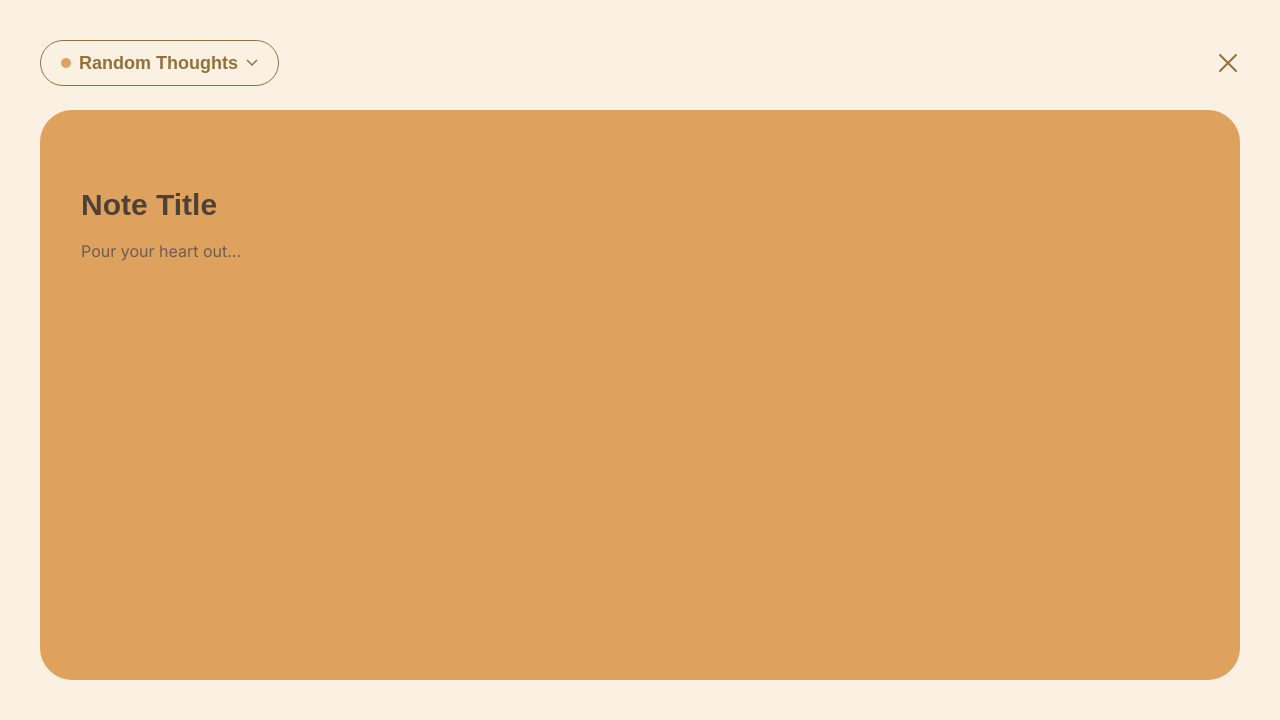
Scenario: NoteEditor › shows an error message when saving fails
Type "Oops" into the field with test id "note-title-input" at (640, 205), box x1=81 y1=187 x2=1199 y2=223
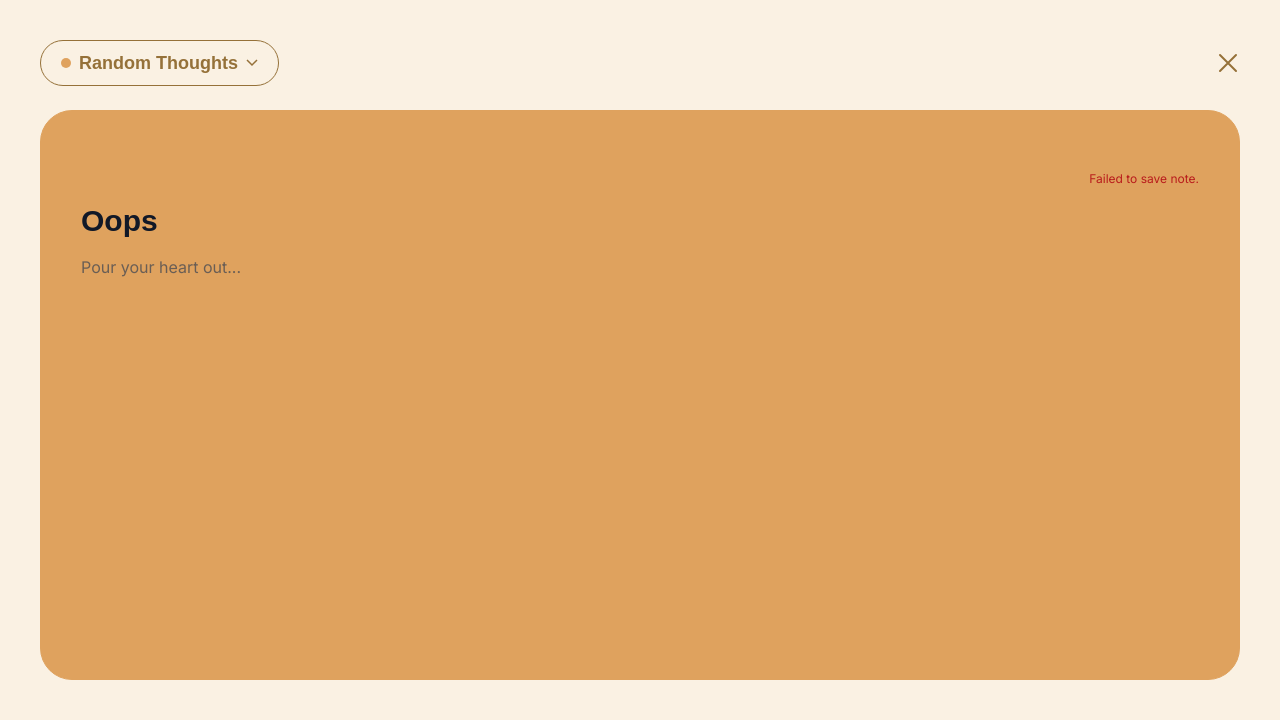
Check: the message with test id "note-editor-error" reads "Failed to save note.", box x1=1089 y1=171 x2=1199 y2=186
